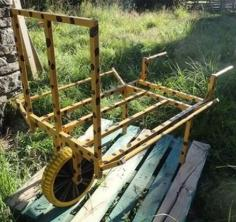BROUETTE: (9, 8, 236, 206)
